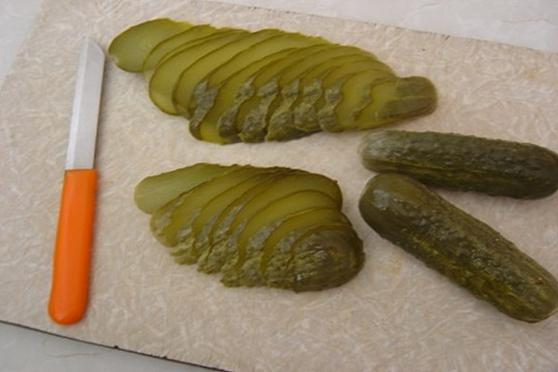cucumber: (360, 169, 558, 335), (357, 124, 558, 203)
